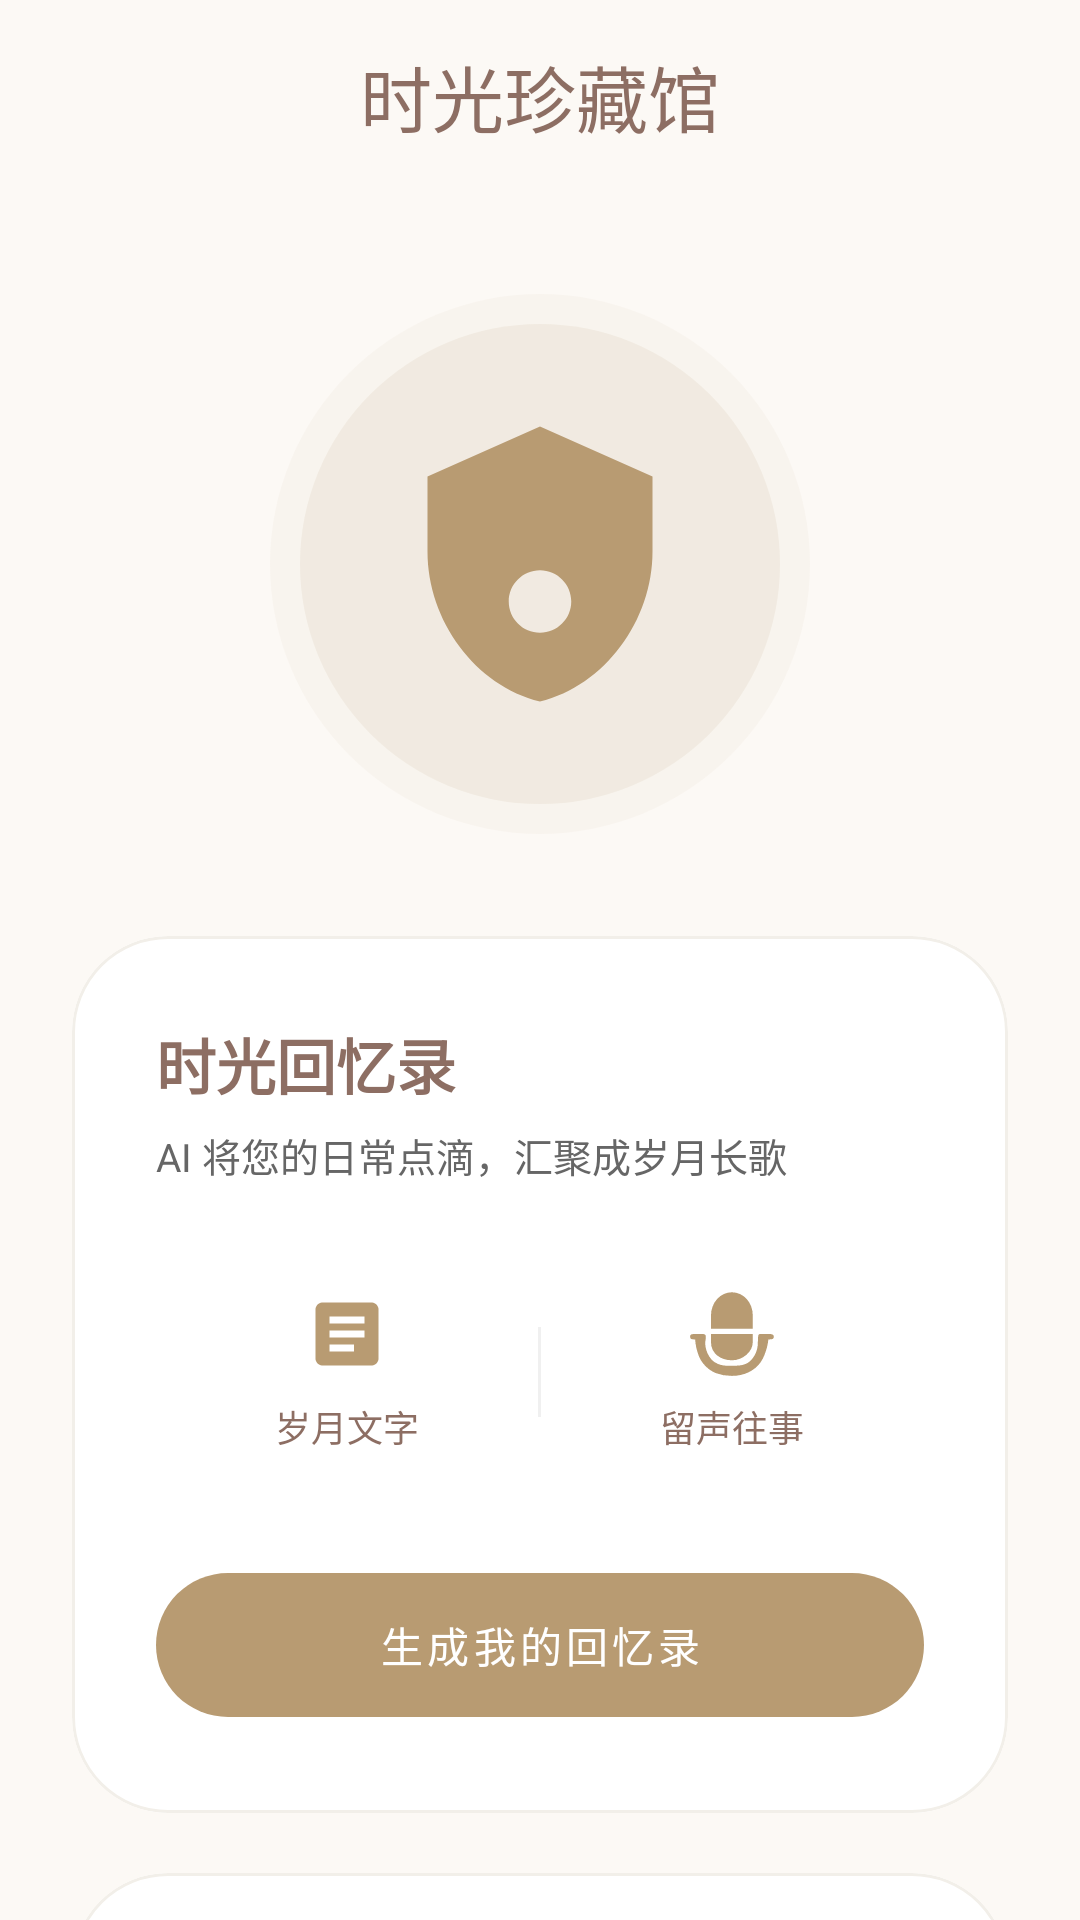

Locate icon controls on the screen. Image size 1080×1920, boxes as (x1, y1, x2, y2).
mic: (690, 1292, 774, 1376)
